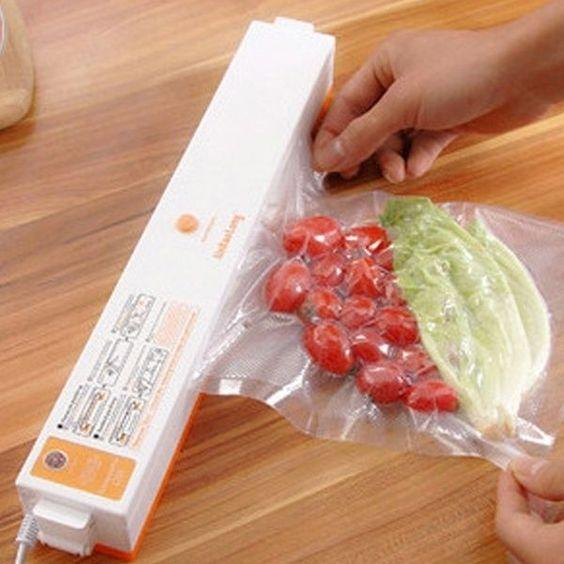LDPE: (209, 195, 564, 442)
